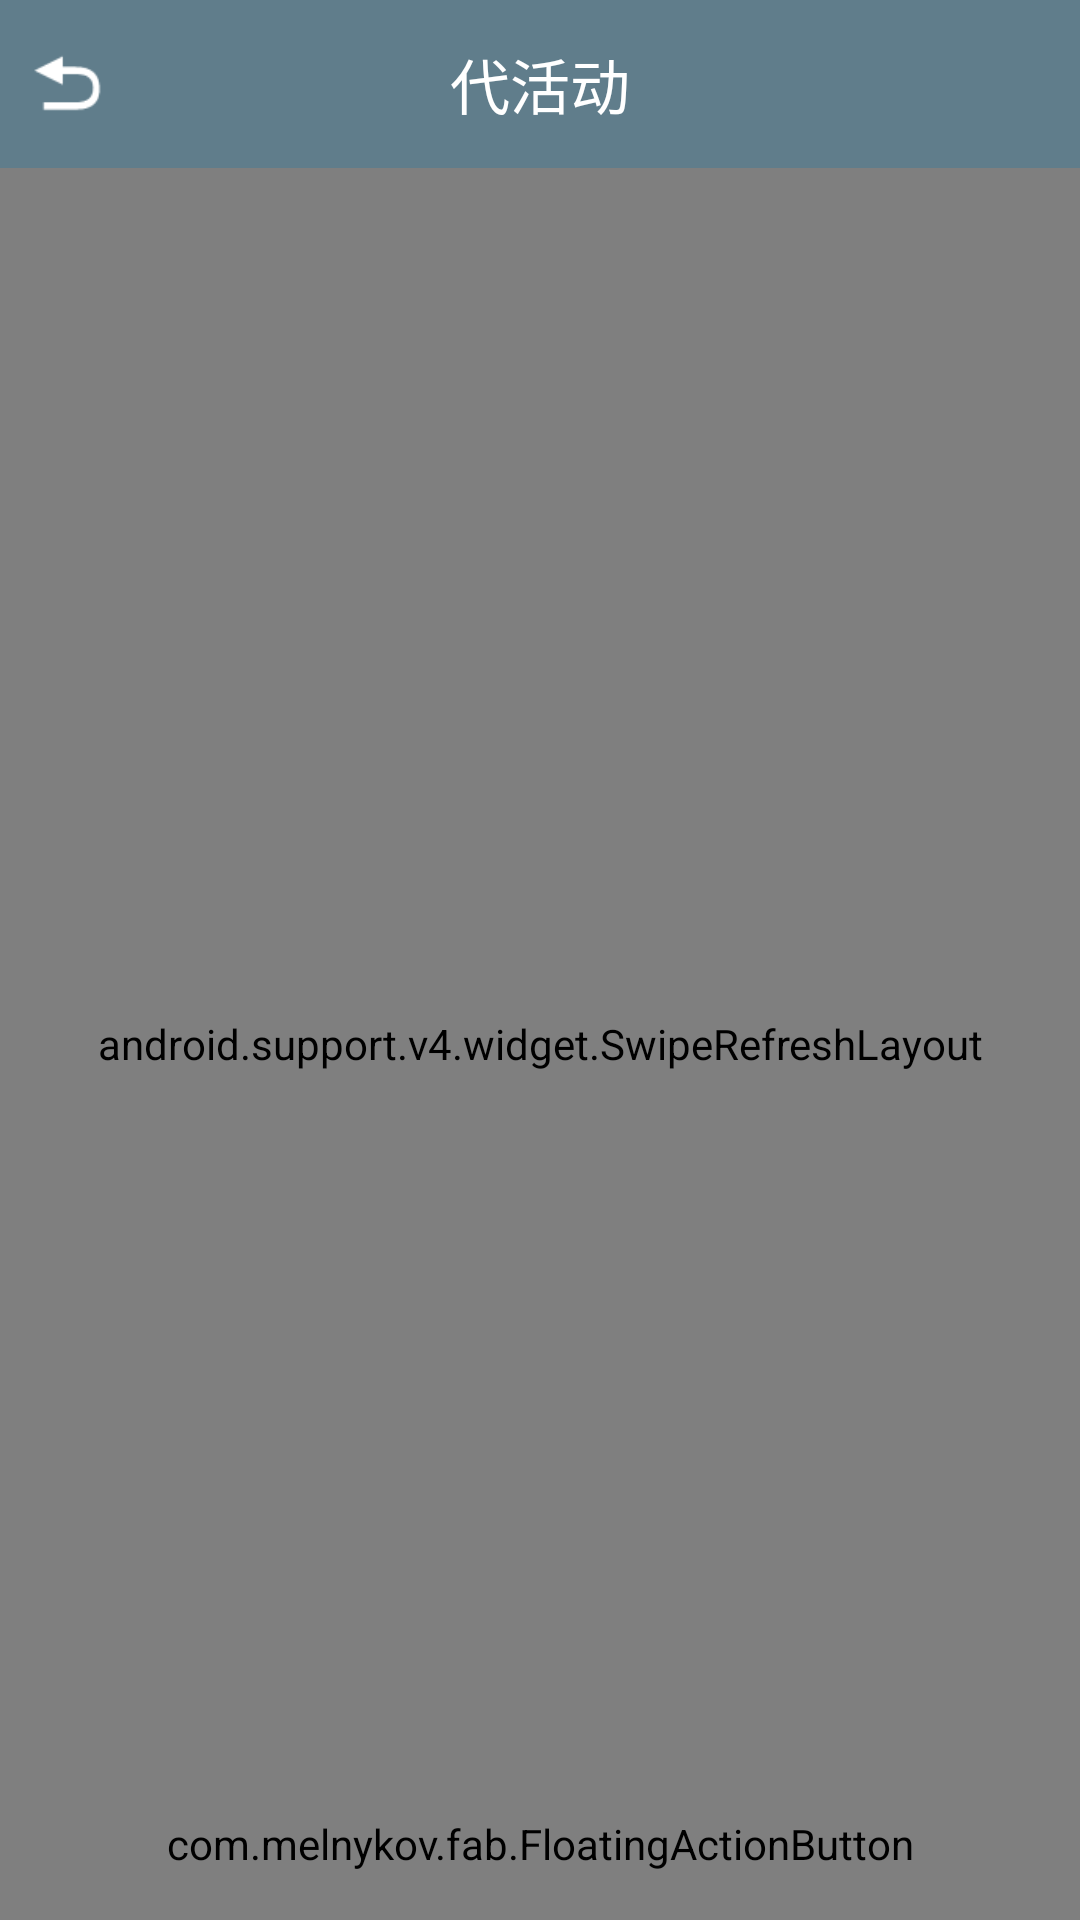

Where icons sit on this 1080x1920 app screen, as (x1, y1, x2, y2):
back: (34, 56, 101, 111)
